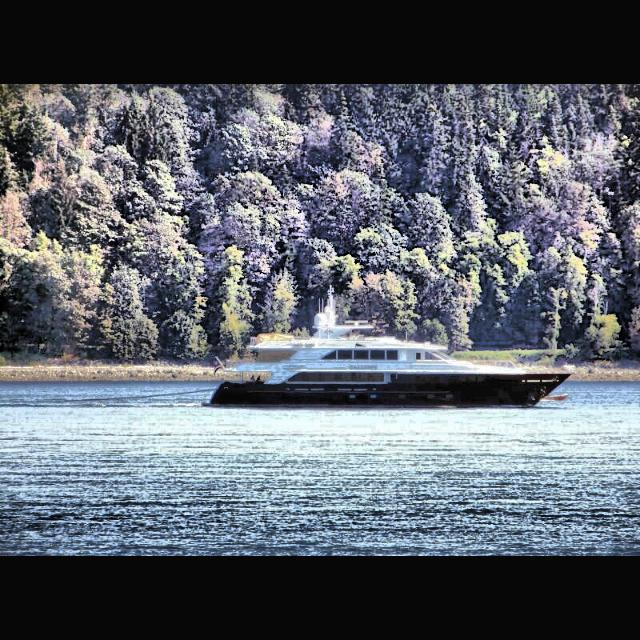yacht: (201, 304, 575, 408)
